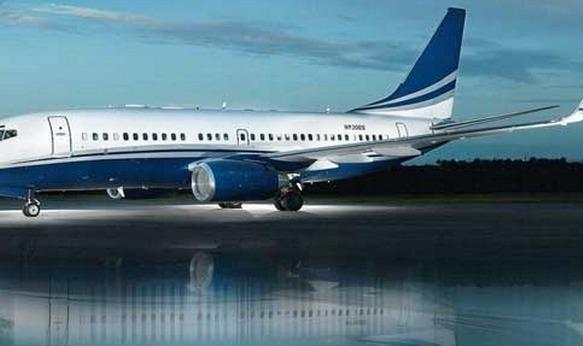airplane: (1, 7, 583, 217)
